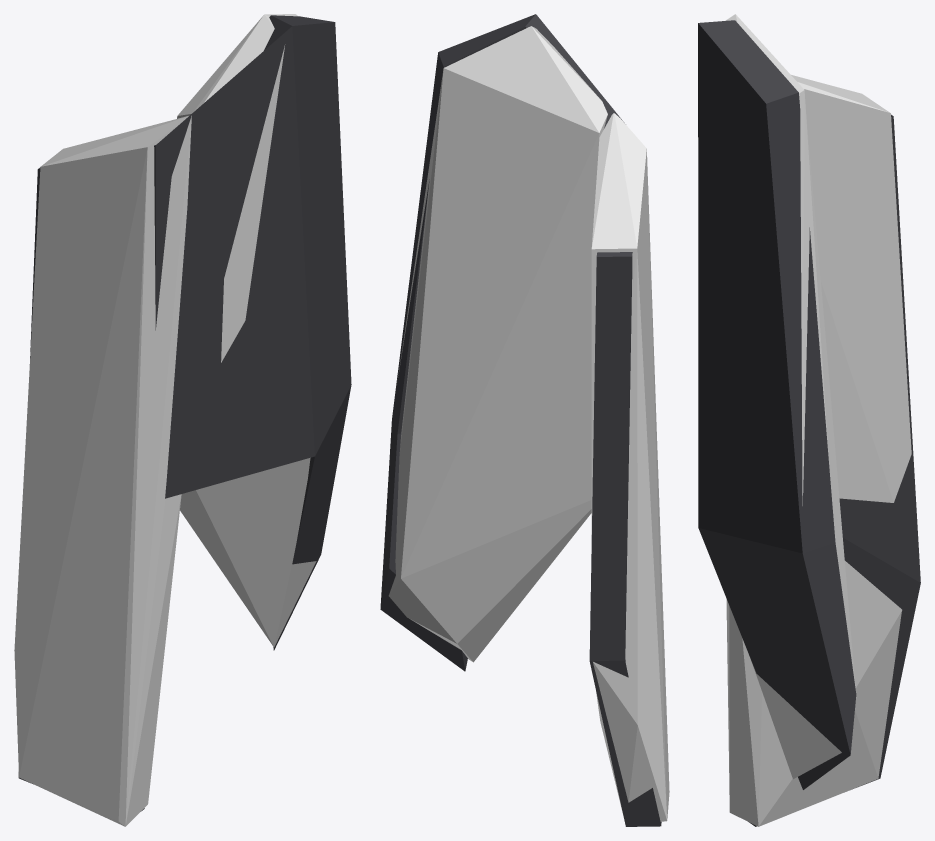
Rendered from SM_Env_Debris_Shell_01.fbx.
3 renders of one model, left to right at view 1: azimuth 30°, elevation 25°; view 2: azimuth 150°, elevation 25°; view 3: azimuth 270°, elevation 25°, orthographic. The views are drawn at different scales.
Parts seen in each view (by area): view 1: SM_Env_Debris_Shell_01_ConvexHulls, SM_Env_Debris_Shell_01_LOD0; view 2: SM_Env_Debris_Shell_01_ConvexHulls, SM_Env_Debris_Shell_01_LOD0; view 3: SM_Env_Debris_Shell_01_LOD0, SM_Env_Debris_Shell_01_ConvexHulls.
Boxes of the visible parts, x1,y1,x2,y2 form: SM_Env_Debris_Shell_01_ConvexHulls: (14, 14, 316, 826); SM_Env_Debris_Shell_01_LOD0: (18, 15, 351, 811); SM_Env_Debris_Shell_01_ConvexHulls: (388, 26, 669, 821); SM_Env_Debris_Shell_01_LOD0: (380, 14, 661, 826); SM_Env_Debris_Shell_01_LOD0: (698, 20, 920, 826); SM_Env_Debris_Shell_01_ConvexHulls: (725, 14, 911, 826).
Bounding box in the file's own units: 38.29 × 69.76 × 166.
1 material, 1 textured.
